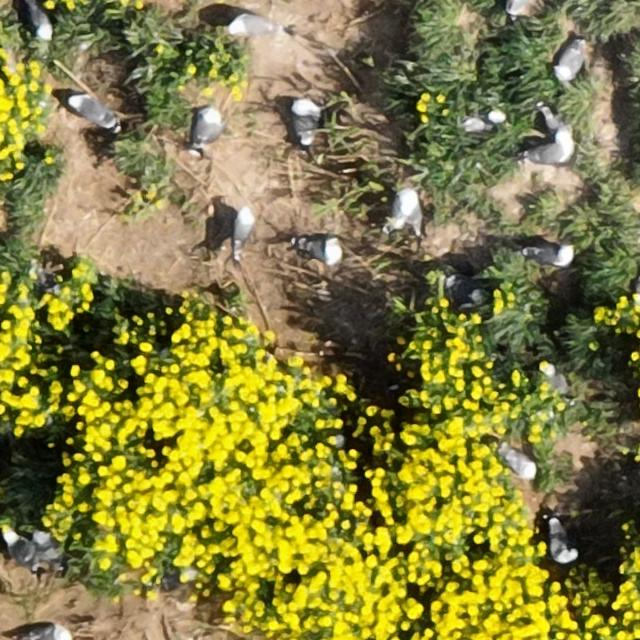umineko: (68, 96, 115, 125), (442, 274, 486, 304), (542, 103, 571, 145), (6, 533, 37, 568), (556, 43, 584, 81), (227, 18, 287, 35), (524, 143, 570, 165), (550, 521, 574, 563), (526, 245, 572, 265), (195, 110, 221, 145), (393, 189, 418, 225), (298, 240, 338, 262), (504, 450, 536, 477), (542, 365, 569, 396), (462, 112, 503, 132), (28, 2, 50, 38), (233, 210, 253, 246), (22, 625, 74, 638), (292, 98, 318, 116), (508, 0, 530, 15)
